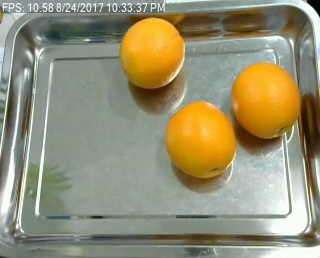Orange: (163, 101, 237, 178), (230, 61, 301, 139), (119, 14, 187, 88)
